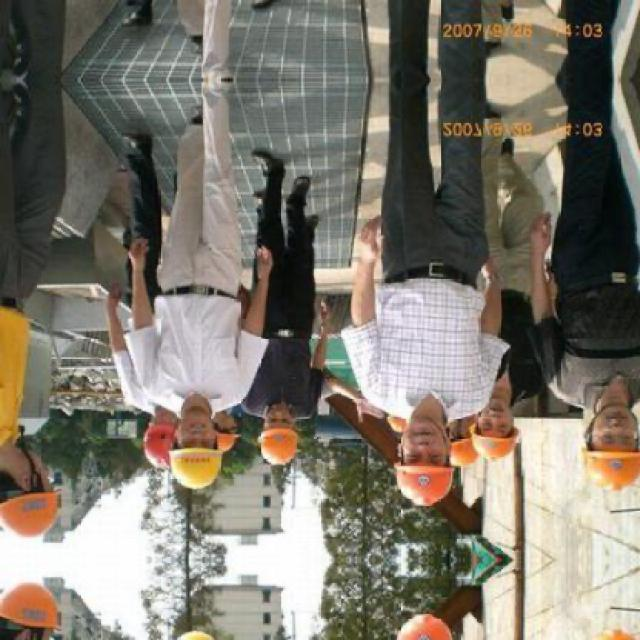con casco: (366, 416, 475, 509), (141, 406, 247, 497), (0, 472, 72, 556), (243, 407, 324, 478), (568, 402, 640, 480), (456, 411, 533, 478), (120, 406, 202, 468)
